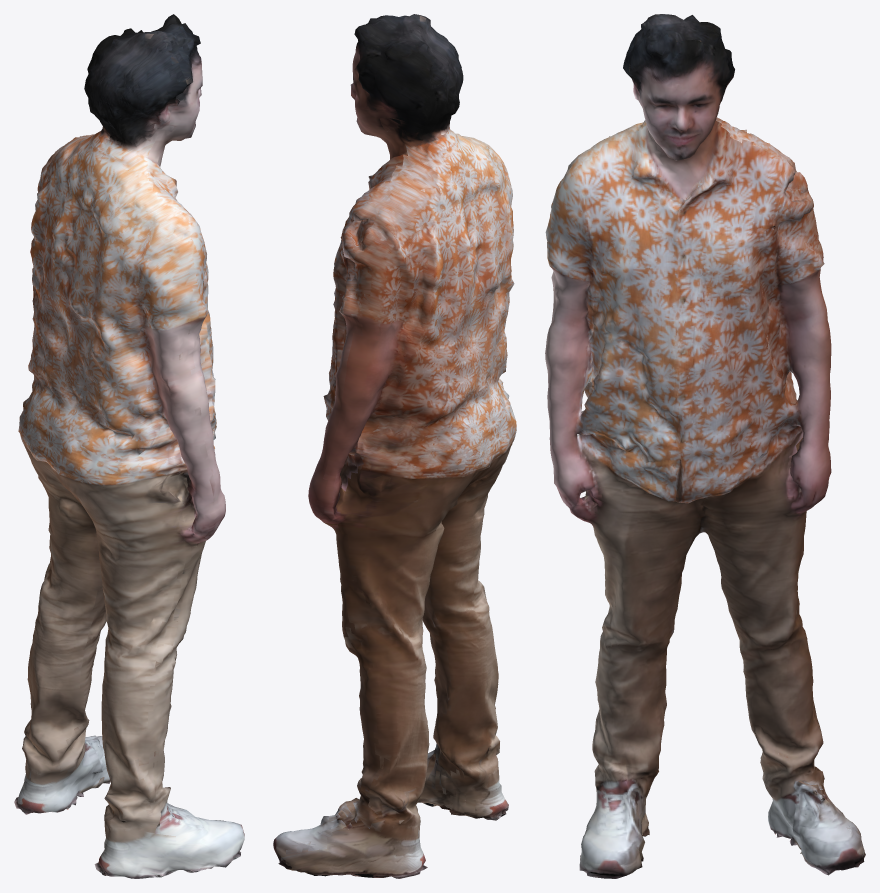
The model's file is Cole_Marotta_3dModel.gltf.
3 views of the same model, side by side, from view 1: azimuth 30°, elevation 25°; view 2: azimuth 150°, elevation 25°; view 3: azimuth 270°, elevation 25° (orthographic). The views are drawn at different scales.
Parts seen in each view (by area): view 1: Cole_Marotta_File; view 2: Cole_Marotta_File; view 3: Cole_Marotta_File.
Part boxes in pixels (x1,y1,x2,y2): Cole_Marotta_File: [14, 14, 244, 878]; Cole_Marotta_File: [273, 14, 516, 878]; Cole_Marotta_File: [545, 14, 865, 878].
Size of the model in its own units: 0.9614 by 4.49 by 1.55.
Materials: 1 (1 with a texture image).
